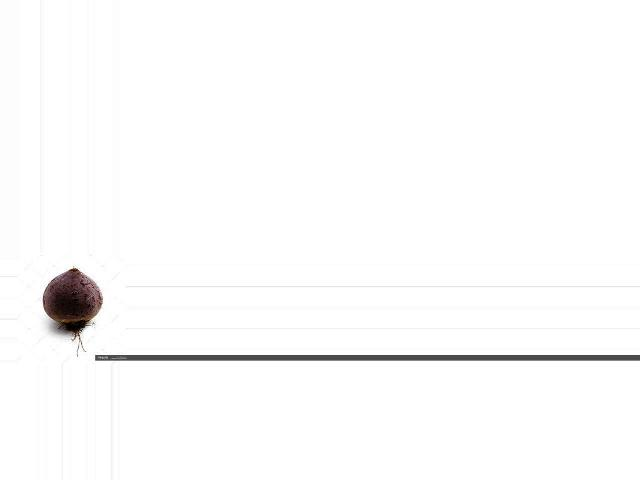beet: (42, 267, 103, 357)
